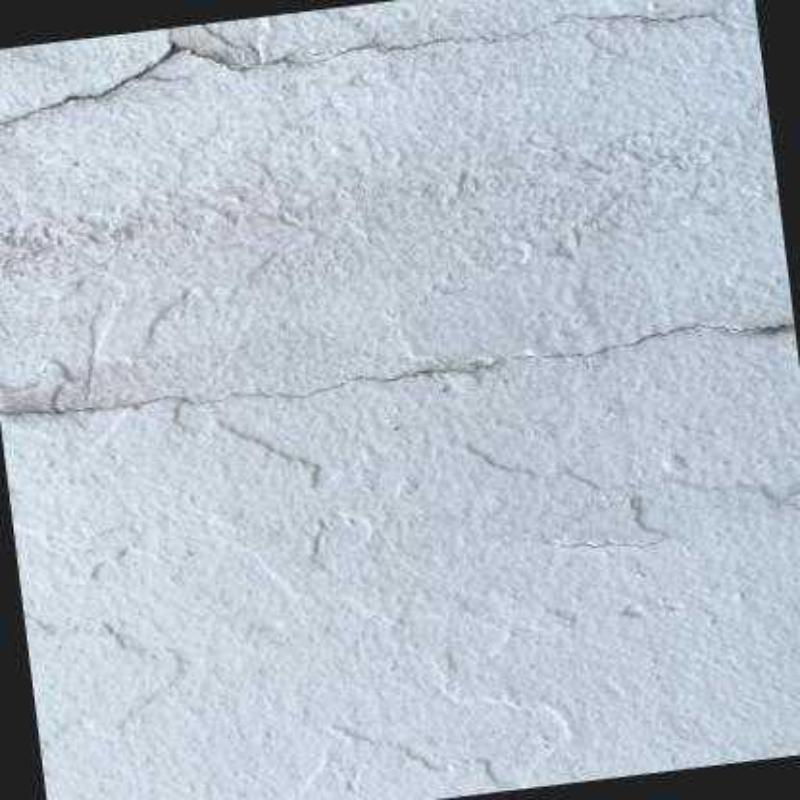pothole: (0, 2, 756, 129), (7, 314, 794, 421)
